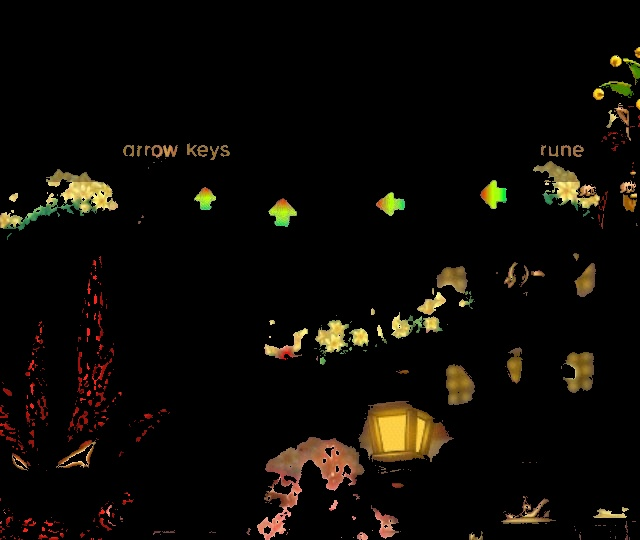rune_box: (143, 154, 552, 253)
